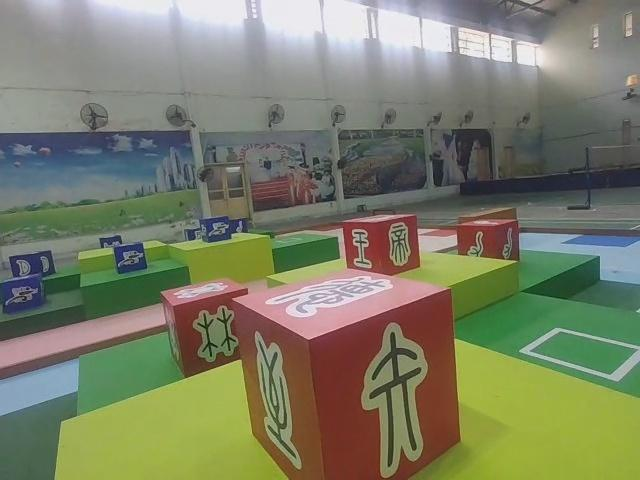R2 Fake: (229, 266, 461, 480), (337, 209, 422, 279)
R2 Real: (158, 274, 251, 380), (455, 217, 521, 265)
